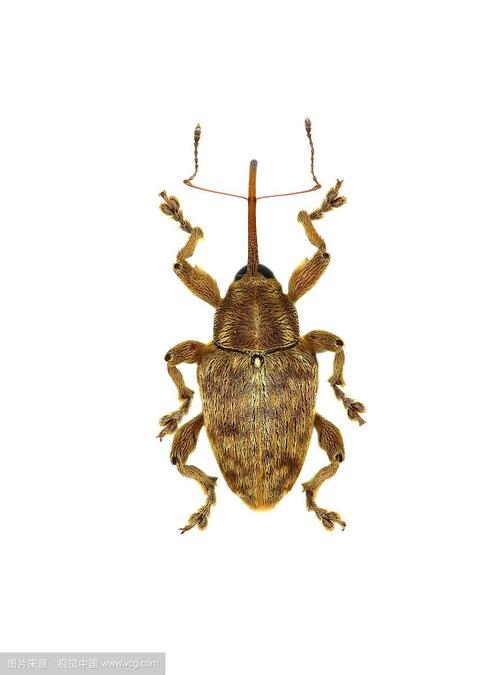Curculionidae: (155, 115, 366, 534)
